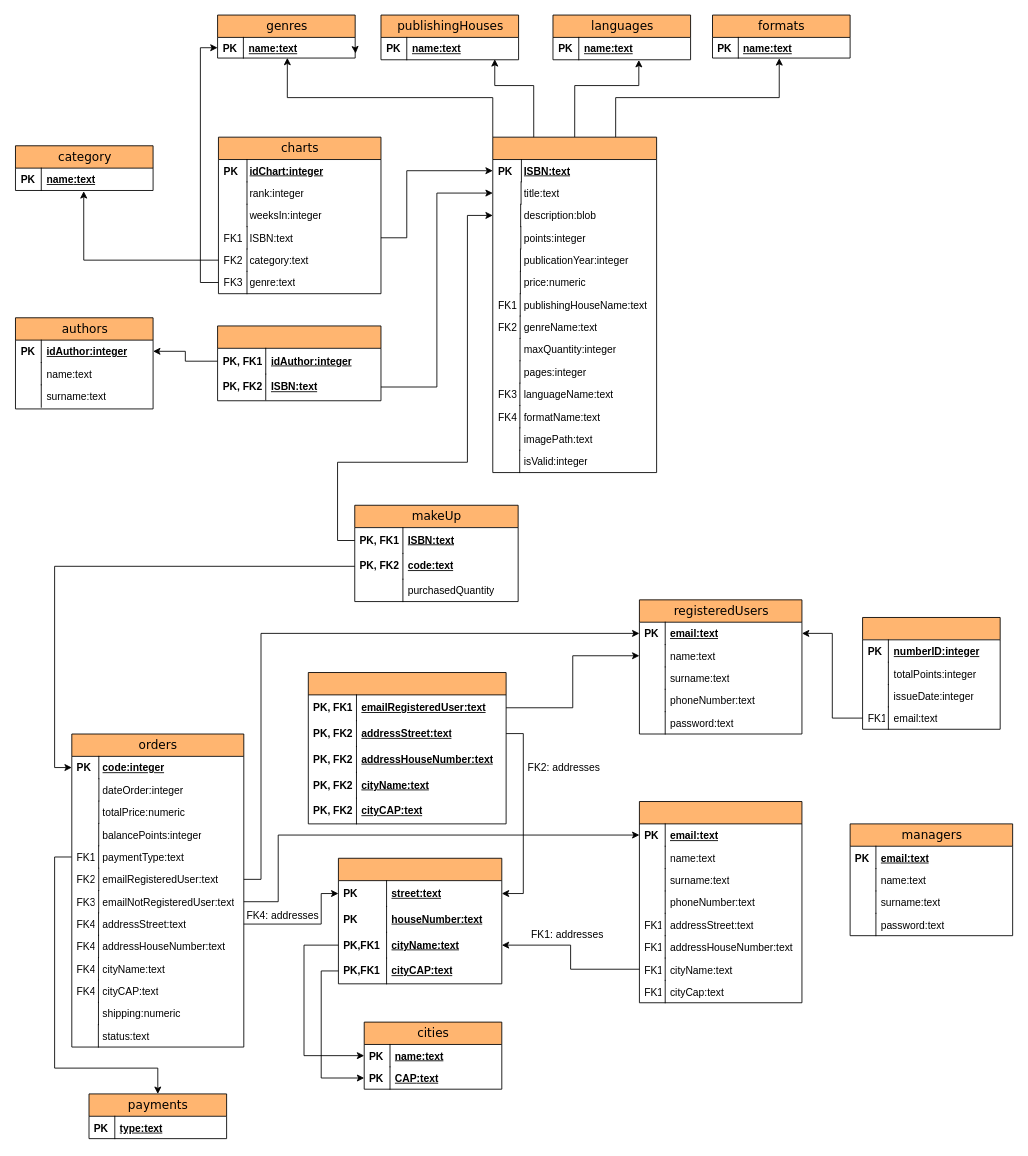
This 1028x1156 diagram has some shape labels left out. Here are the shapes that lost their labels. From the top down, the box of each, then its label:
(492, 136, 657, 473): books
(217, 325, 381, 401): write
(862, 617, 1000, 729): libroCards
(307, 672, 506, 824): ship
(338, 857, 502, 984): addresses
(639, 801, 802, 1003): notRegisteredUsers
